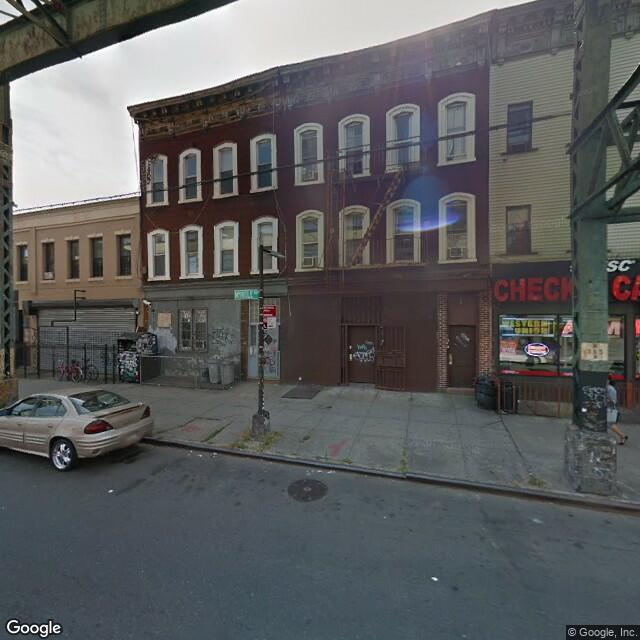litter: (184, 442, 235, 462)
